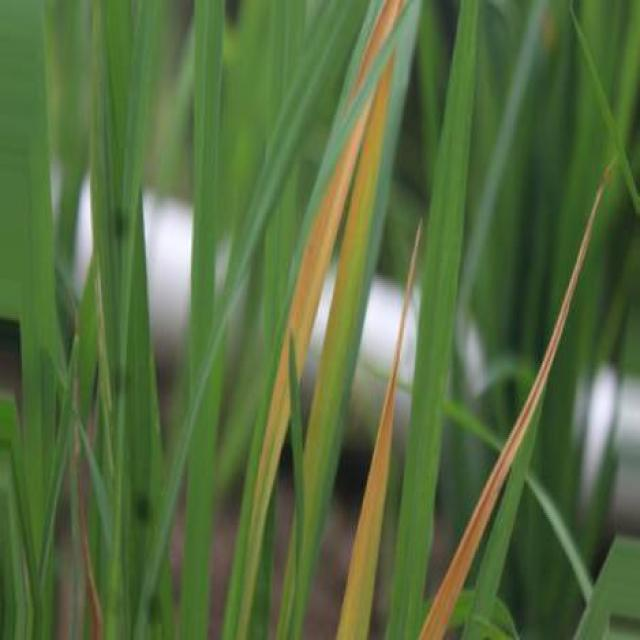Rice Tungro: (419, 167, 609, 638), (235, 94, 373, 638), (279, 62, 392, 638), (336, 222, 422, 638), (350, 0, 402, 102)
